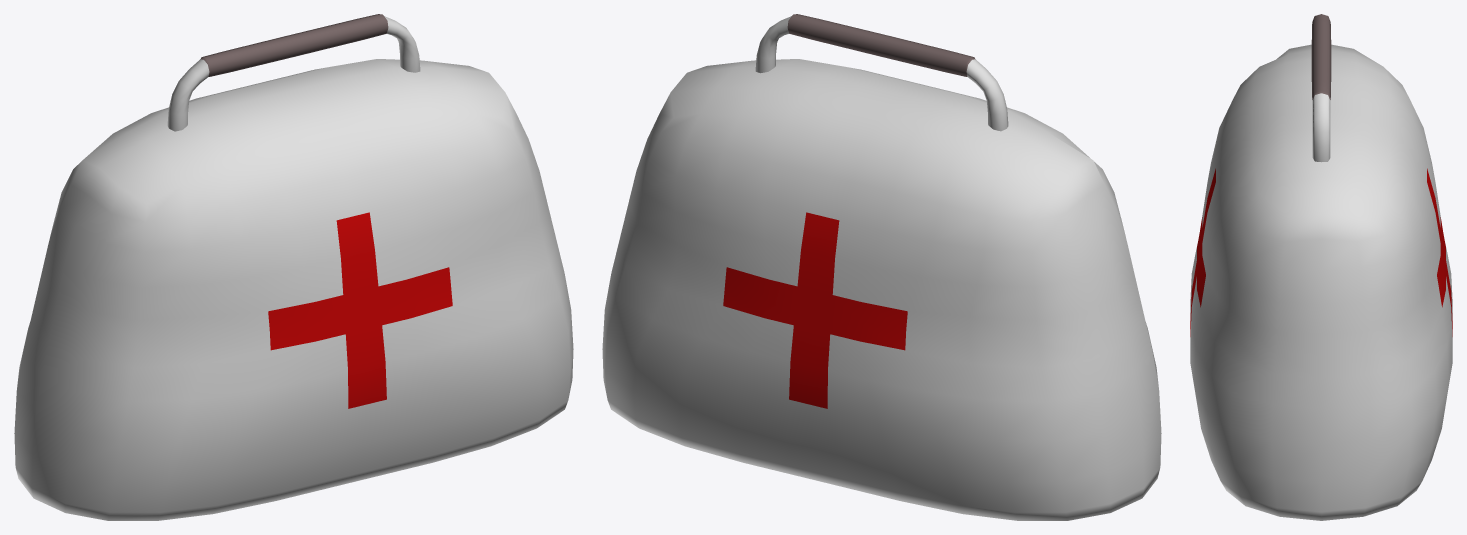
The model's file is SM_HealthPack01.fbx.
3 views of the same model, side by side, from view 1: azimuth 30°, elevation 25°; view 2: azimuth 150°, elevation 25°; view 3: azimuth 270°, elevation 25° (orthographic). The views are drawn at different scales.
Visible parts, largest first — view 1: pCube7; view 2: pCube7; view 3: pCube7.
Boxes of the visible parts, x1,y1,x2,y2 form: pCube7: (14,14,573,520); pCube7: (602,14,1161,520); pCube7: (1190,14,1452,520).
Bounding box in the file's own units: 2.8 × 2.05 × 1.36.
